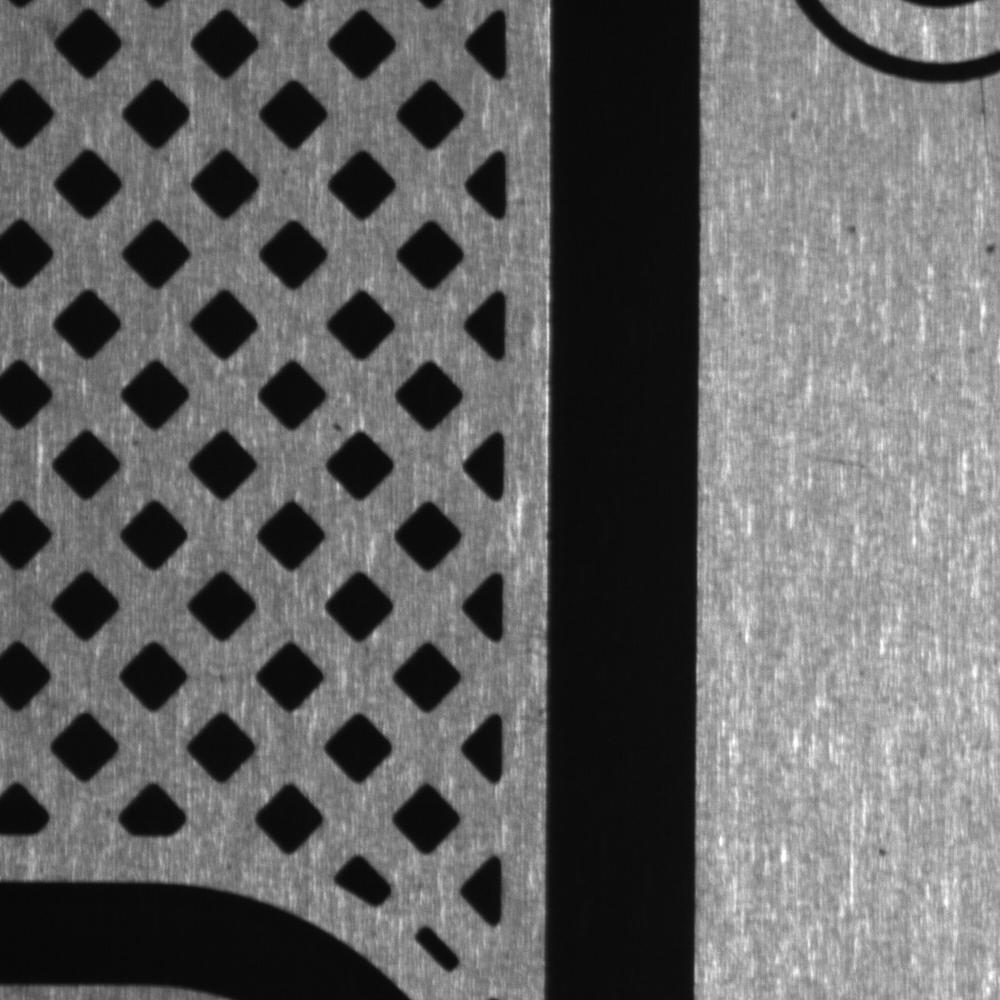Pinhole: (866, 833, 900, 869), (842, 214, 869, 249), (972, 232, 999, 267), (784, 99, 809, 128)
Scar: (789, 436, 892, 491), (974, 71, 997, 200)
